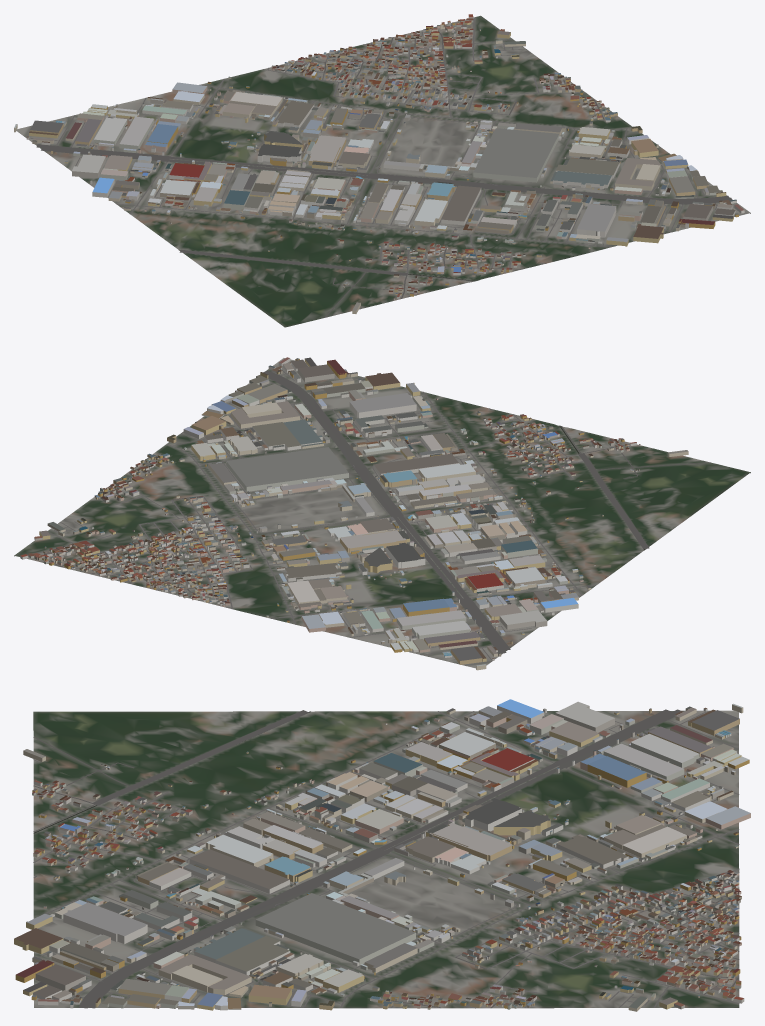
3 renders of one model, top to bottom at view 1: azimuth 30°, elevation 25°; view 2: azimuth 150°, elevation 25°; view 3: azimuth 270°, elevation 25°, orthographic. The views are drawn at different scales.
Parts seen in each view (by area): view 1: ground, buildings, roads; view 2: ground, buildings, roads; view 3: buildings, ground, roads.
Boxes of the visible parts, x1,y1,x2,y2 form: ground: (16,15,750,327); buildings: (14,14,744,313); roads: (29,17,732,317); ground: (14,358,750,668); buildings: (20,357,688,670); roads: (37,370,710,660); buildings: (14,699,750,1011); ground: (33,710,739,1008); roads: (33,709,739,1008).
Size of the model in its own units: 1445 by 22.99 by 1465.
